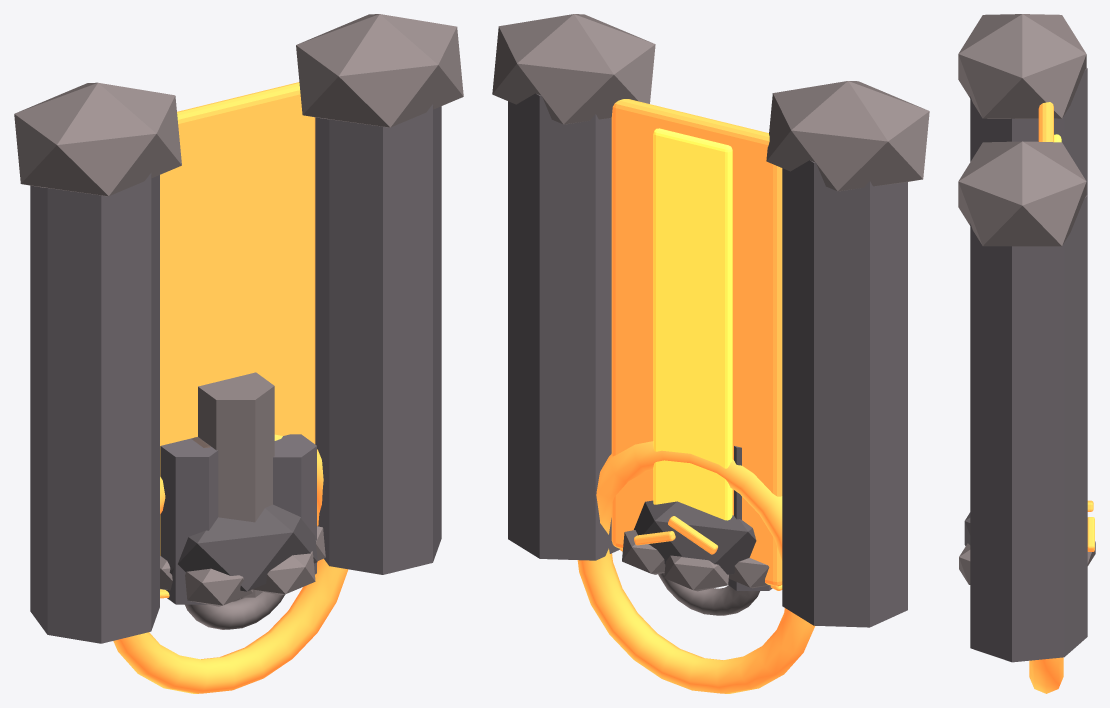
Rendered from ember-canyon-kit.glb.
3 renders of one model, left to right at view 1: azimuth 30°, elevation 25°; view 2: azimuth 150°, elevation 25°; view 3: azimuth 270°, elevation 25°, orthographic. The views are drawn at different scales.
Visible parts, largest first — view 1: LavaWall_-0.88, LavaWall_0.88, LavaFallSheet, LavaWallTop_-0.88, LavaWallTop_0.88, LavaPoolRing, Basalt_1, CharcoalBody, Basalt_0, Basalt_2, VentStone, CraterStone_2 (+1 smaller); view 2: LavaWall_-0.88, LavaWall_0.88, LavaFallSheet, LavaFallCore, LavaPoolRing, LavaWallTop_-0.88, LavaWallTop_0.88, CharcoalBody, VentStone, CraterStone_4, CraterStone_5, CraterStone_3; view 3: LavaWall_0.88, LavaWallTop_0.88, LavaWallTop_-0.88, LavaWall_-0.88, LavaPoolRing, LavaFallSheet, CraterStone_1, CharcoalCrackB.
Boxes of the visible parts, left/top/right/bottom form: LavaWall_-0.88: left=30, top=173, right=159, bottom=643; LavaWall_0.88: left=315, top=104, right=441, bottom=574; LavaFallSheet: left=160, top=82, right=315, bottom=555; LavaWallTop_-0.88: left=14, top=82, right=181, bottom=196; LavaWallTop_0.88: left=296, top=14, right=463, bottom=127; LavaPoolRing: left=113, top=434, right=348, bottom=693; Basalt_1: left=198, top=372, right=274, bottom=597; CharcoalBody: left=169, top=504, right=317, bottom=591; Basalt_0: left=160, top=437, right=218, bottom=604; Basalt_2: left=273, top=434, right=316, bottom=574; VentStone: left=185, top=592, right=285, bottom=629; CraterStone_2: left=185, top=568, right=252, bottom=606; LavaWall_-0.88: left=782, top=160, right=907, bottom=627; LavaWall_0.88: left=508, top=93, right=619, bottom=560; LavaFallSheet: left=611, top=99, right=782, bottom=586; LavaFallCore: left=653, top=128, right=732, bottom=520; LavaPoolRing: left=577, top=441, right=814, bottom=693; LavaWallTop_-0.88: left=766, top=81, right=929, bottom=191; LavaWallTop_0.88: left=492, top=14, right=655, bottom=124; CharcoalBody: left=634, top=500, right=756, bottom=574; VentStone: left=658, top=573, right=759, bottom=615; CraterStone_4: left=664, top=555, right=728, bottom=591; CraterStone_5: left=622, top=530, right=665, bottom=574; CraterStone_3: left=728, top=558, right=770, bottom=588; LavaWall_0.88: left=970, top=195, right=1087, bottom=662; LavaWallTop_0.88: left=958, top=141, right=1086, bottom=246; LavaWallTop_-0.88: left=958, top=14, right=1086, bottom=118; LavaWall_-0.88: left=970, top=67, right=1087, bottom=195; LavaPoolRing: left=1029, top=657, right=1063, bottom=693; LavaFallSheet: left=1038, top=102, right=1053, bottom=142; CraterStone_1: left=959, top=543, right=970, bottom=584; CharcoalCrackB: left=1087, top=517, right=1094, bottom=551.
Size of the model in its own units: 2.73 by 3.89 by 0.8016.
